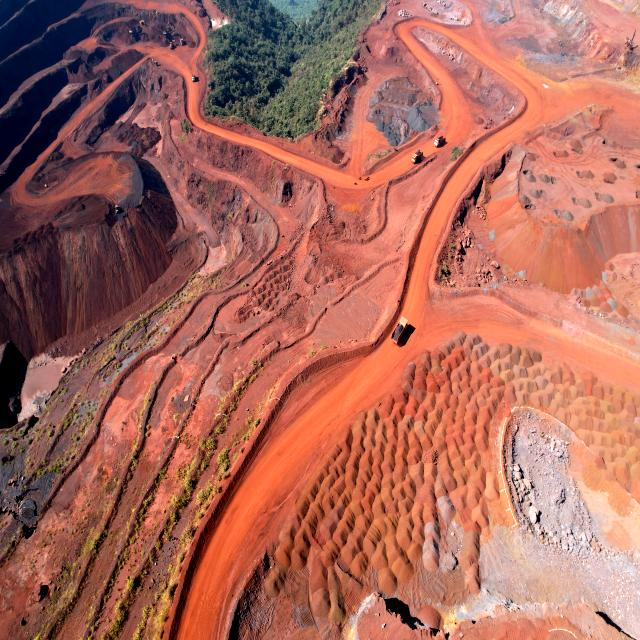Blast rig: (624, 28, 637, 49)
Dumper truck: (390, 317, 410, 344), (433, 136, 445, 147), (412, 150, 423, 162), (192, 74, 196, 82), (180, 36, 183, 44)
Excavator: (140, 20, 146, 27)
